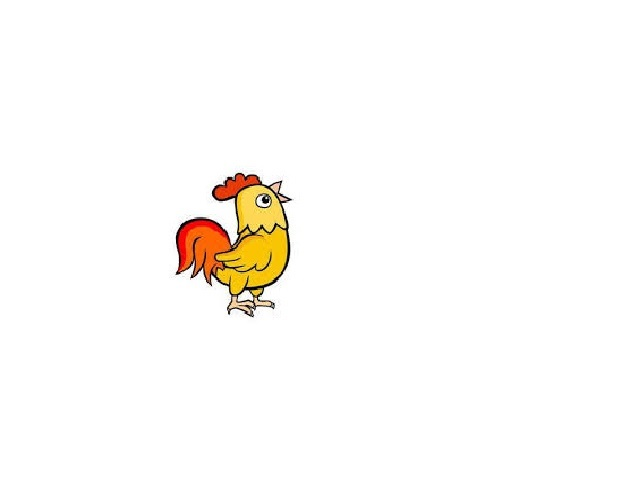crown: (213, 173, 261, 199)
eyes: (256, 193, 276, 210)
feet: (225, 296, 278, 319)
tail: (172, 215, 231, 283)
